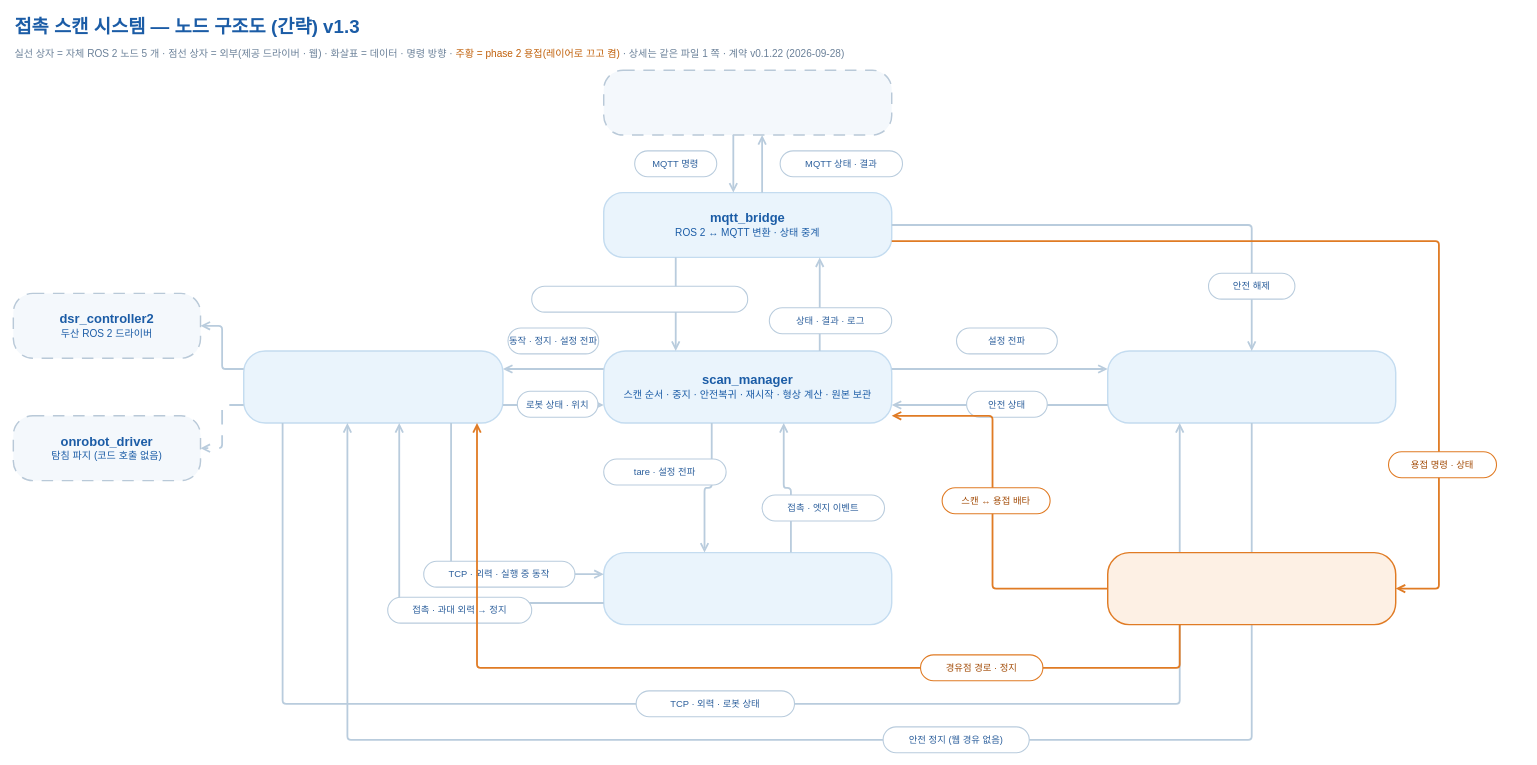
This 1537x765 diagram has some shape labels left out. Each missing label, with the centre of its shape:
"contact_detector 접촉과 엣지 판정" belongs at pixel 747 588.
"robot_manager M0609 명령 · 스텝 모서리 탐색 · 상태 보고" belongs at pixel 373 386.
"safety_monitor 이상 감시 · 로컬 정지 · 래치" belongs at pixel 1251 386.
"weld_manager 모서리 8 개 용접 모션(위빙)" belongs at pixel 1251 588.
"시작 · 중지 · 안전복귀 · 재시작 · 설정" belongs at pixel 639 298.
"웹 관제 React · FastAPI · MQTT 브로커" belongs at pixel 747 102.
